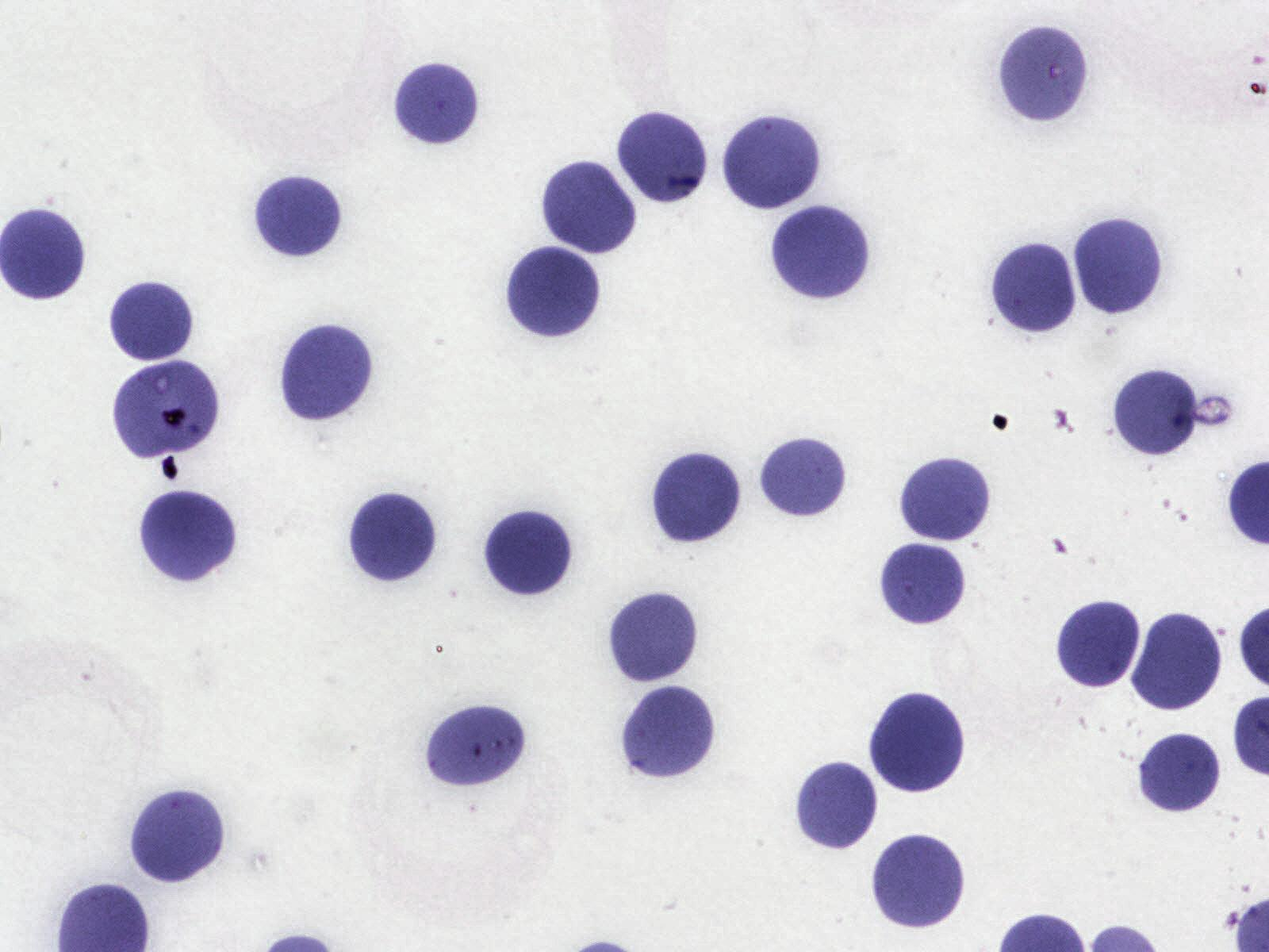Uninfected: (615, 684, 719, 784), (113, 358, 220, 455), (773, 200, 870, 306), (280, 321, 371, 428), (723, 113, 821, 209), (130, 792, 228, 887), (139, 489, 238, 583), (872, 834, 966, 932), (502, 251, 601, 344), (608, 588, 701, 685), (539, 161, 636, 254), (1136, 612, 1224, 714), (1111, 366, 1204, 460), (872, 694, 960, 793), (899, 455, 995, 545), (991, 240, 1079, 337), (350, 488, 437, 586), (655, 447, 742, 545), (106, 279, 201, 367), (998, 29, 1088, 121), (1077, 221, 1165, 314), (427, 703, 526, 785), (485, 509, 576, 598), (619, 111, 705, 205), (754, 439, 853, 520), (880, 540, 971, 628), (252, 173, 345, 259), (792, 766, 880, 855), (393, 60, 481, 148), (1137, 729, 1223, 818), (1052, 602, 1136, 693)
